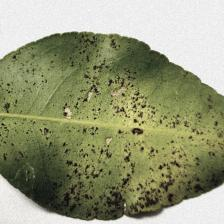canker: (59, 40, 175, 202)
